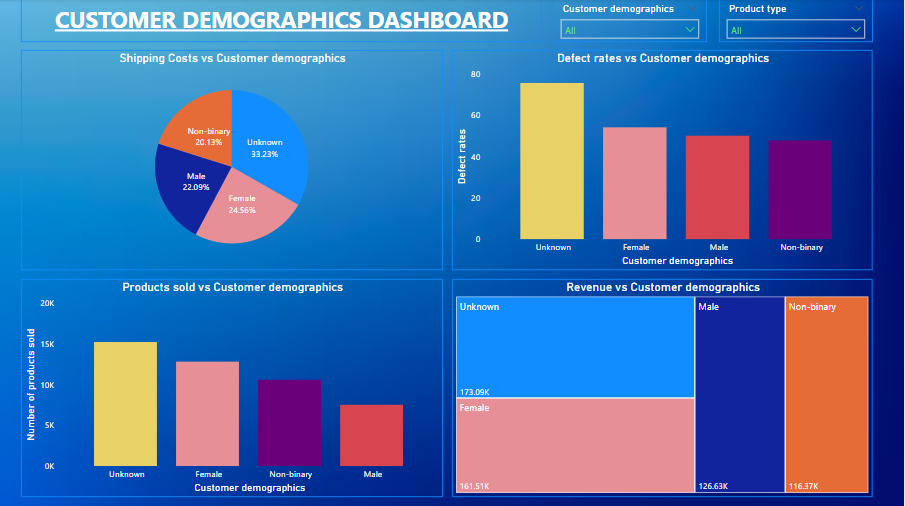

The dashboard page shown, as its layout file describes it:
{"tool":"powerbi","page":{"name":"Customer Demographics Dashboard","canvas":[1280,720],"ordinal":2},"visuals":[{"type":"pieChart","title":"Shipping Costs vs Customer demographics","fields":{"Category":["supply_chain_data.Customer demographics"],"Y":["Sum(supply_chain_data.Shipping costs)"]},"box":[30.2,72.2,598,312.4],"z":0},{"type":"treemap","title":"Revenue vs Customer demographics","fields":{"Group":["supply_chain_data.Customer demographics"],"Values":["Sum(supply_chain_data.Revenue generated)"]},"box":[640,396.4,596.3,309.1],"z":1000},{"type":"columnChart","title":"Defect rates vs Customer demographics","fields":{"Category":["supply_chain_data.Customer demographics"],"Y":["Sum(supply_chain_data.Defect rates)"]},"box":[640,72.2,596.3,312.4],"z":2000},{"type":"columnChart","title":"Products sold vs Customer demographics","fields":{"Category":["supply_chain_data.Customer demographics"],"Y":["Sum(supply_chain_data.Number of products sold)"]},"box":[30.2,396.4,598,309.1],"z":3000},{"type":"textbox","box":[29.8,0,738.4,60.9],"z":4000},{"type":"slicer","fields":{"Values":["supply_chain_data.Customer demographics"]},"box":[783.8,0,218.3,60.9],"z":5000},{"type":"slicer","fields":{"Values":["supply_chain_data.Product type"]},"box":[1019.1,0,218.3,60.9],"z":6000}]}

Visuals, with their boxes in screenshot pixels (x1, y1, x2, y2), scaled from the page's 1280x720 canvas onto the 905x506 screenshot:
"Shipping Costs vs Customer demographics" pieChart: [x1=21, y1=51, x2=444, y2=270]
"Revenue vs Customer demographics" treemap: [x1=452, y1=279, x2=874, y2=496]
"Defect rates vs Customer demographics" columnChart: [x1=452, y1=51, x2=874, y2=270]
"Products sold vs Customer demographics" columnChart: [x1=21, y1=279, x2=444, y2=496]
textbox: [x1=21, y1=0, x2=543, y2=43]
slicer - supply_chain_data.Customer demographics: [x1=554, y1=0, x2=709, y2=43]
slicer - supply_chain_data.Product type: [x1=721, y1=0, x2=875, y2=43]
